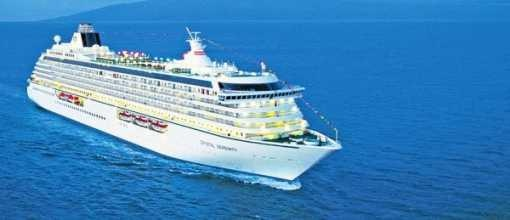youlun: (25, 15, 344, 181)
